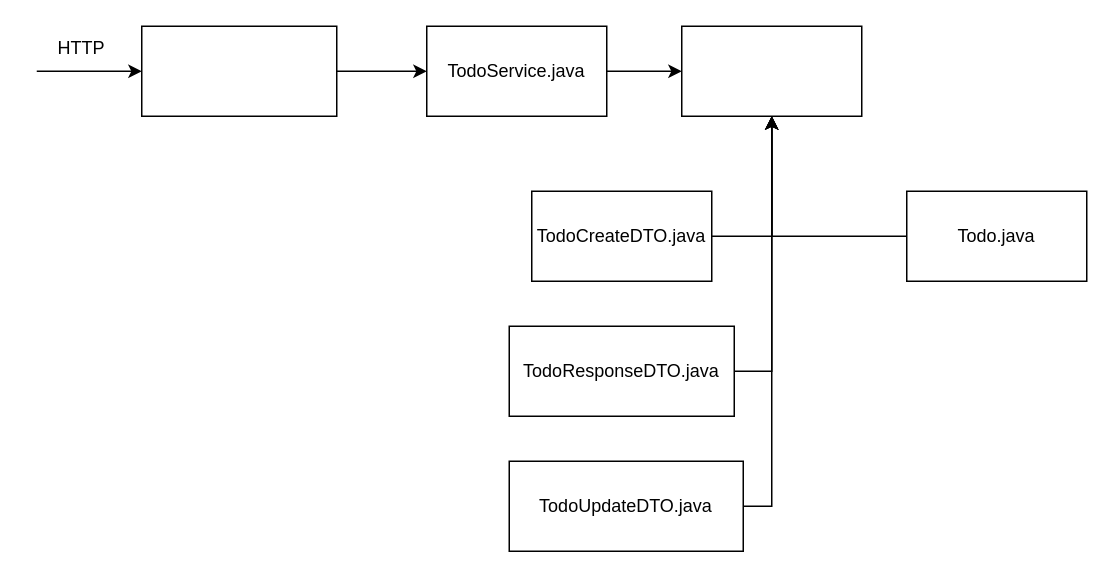
Some shapes in this 1113 by 578 pixel diagram are drawn without their labels. Here are the shapes that lost their labels. From the top down, the box of each, then its label:
(140, 25, 337, 116): TodoResource,java
(680, 25, 862, 116): TodoMapper.java
